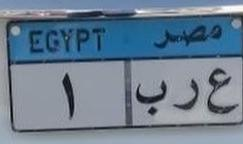1: (61, 71, 77, 123)
ain: (203, 66, 239, 119)
baa: (134, 78, 167, 116)
raa: (173, 76, 202, 114)
